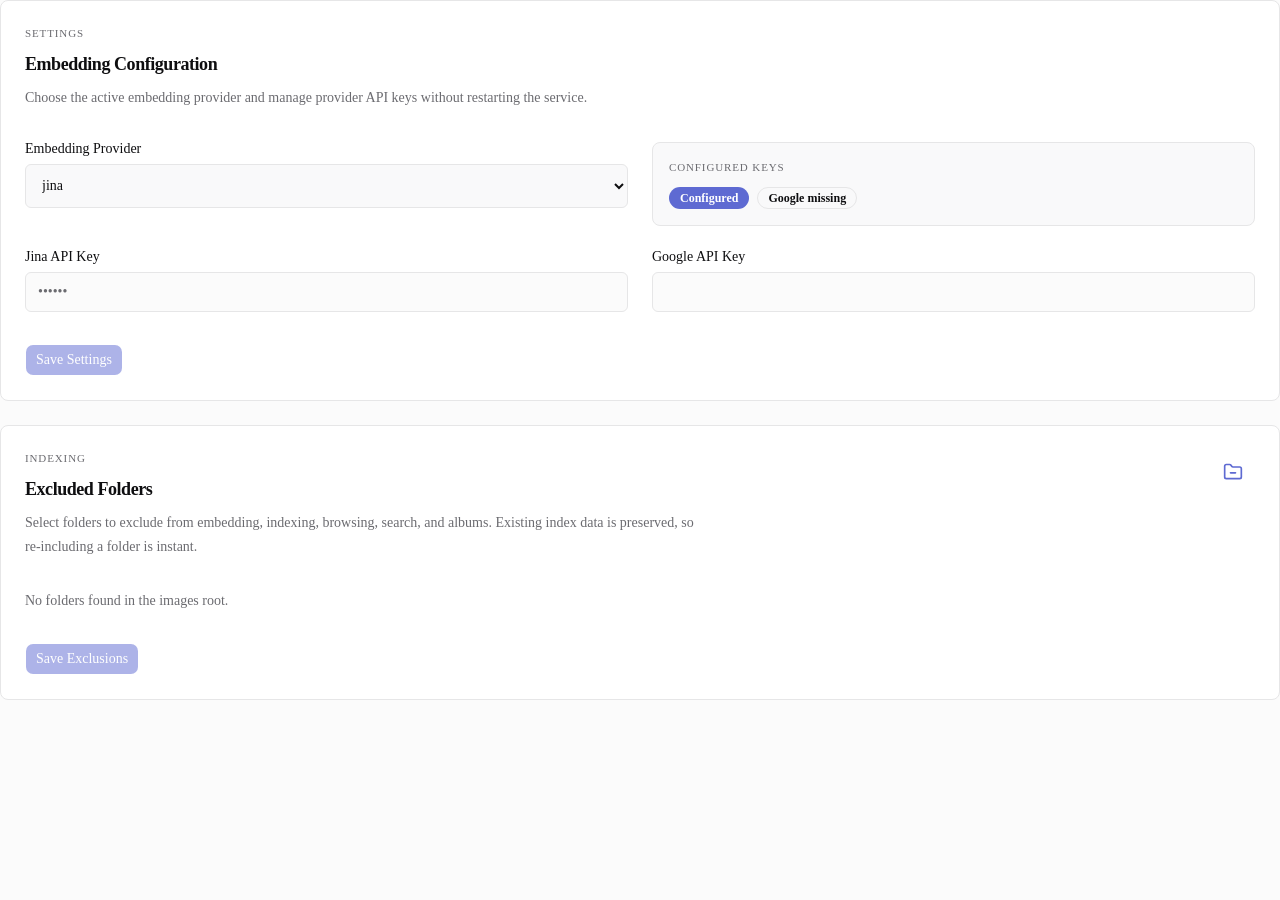
Scenario: SettingsPage › shows retry button after reload failure
Type "new-secret" into the password field labelled "Jina API Key".
click(326, 292); type("new-secret")  # box [25, 272, 628, 312]
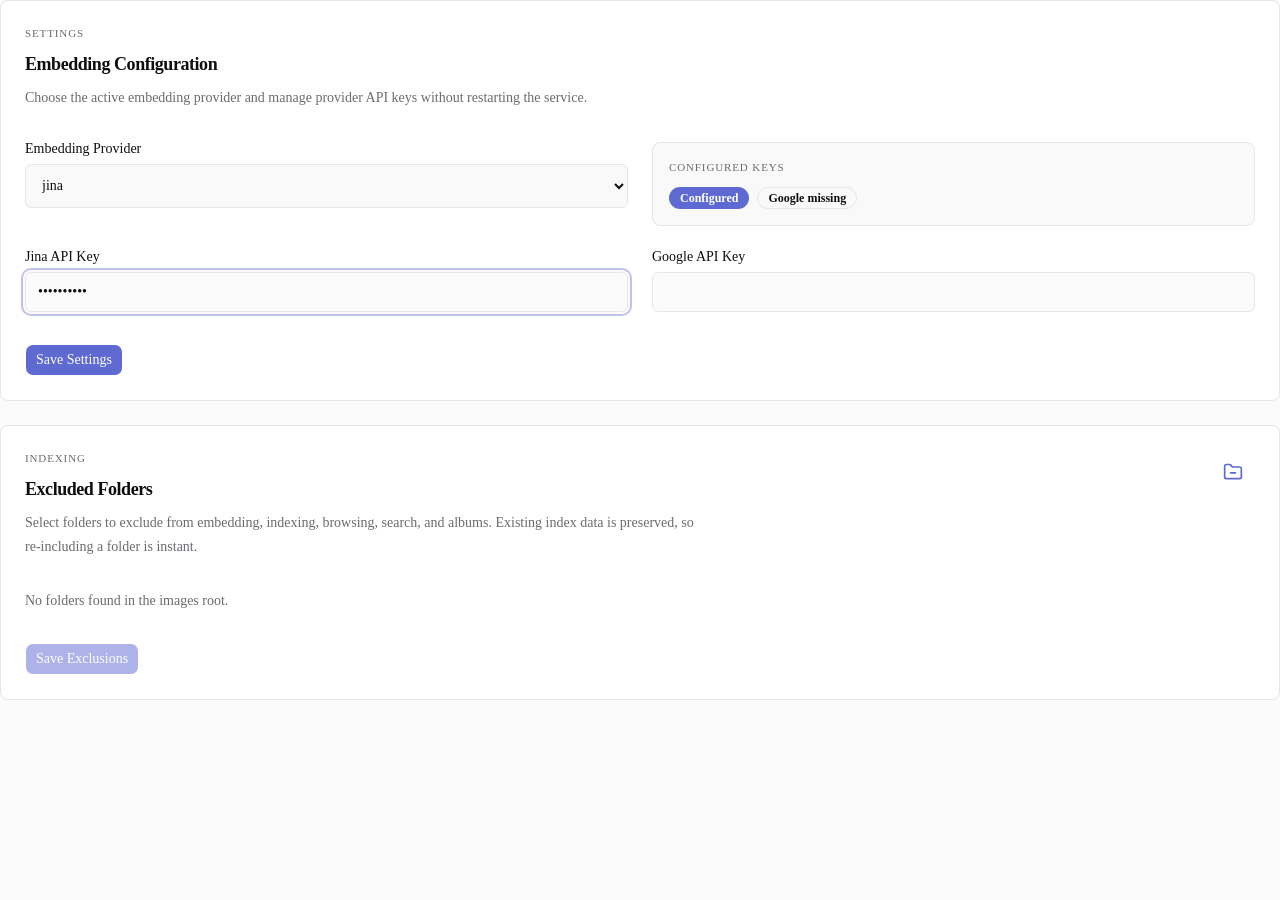
Click the button "Save Settings".
click(74, 360)  # box [25, 344, 123, 376]
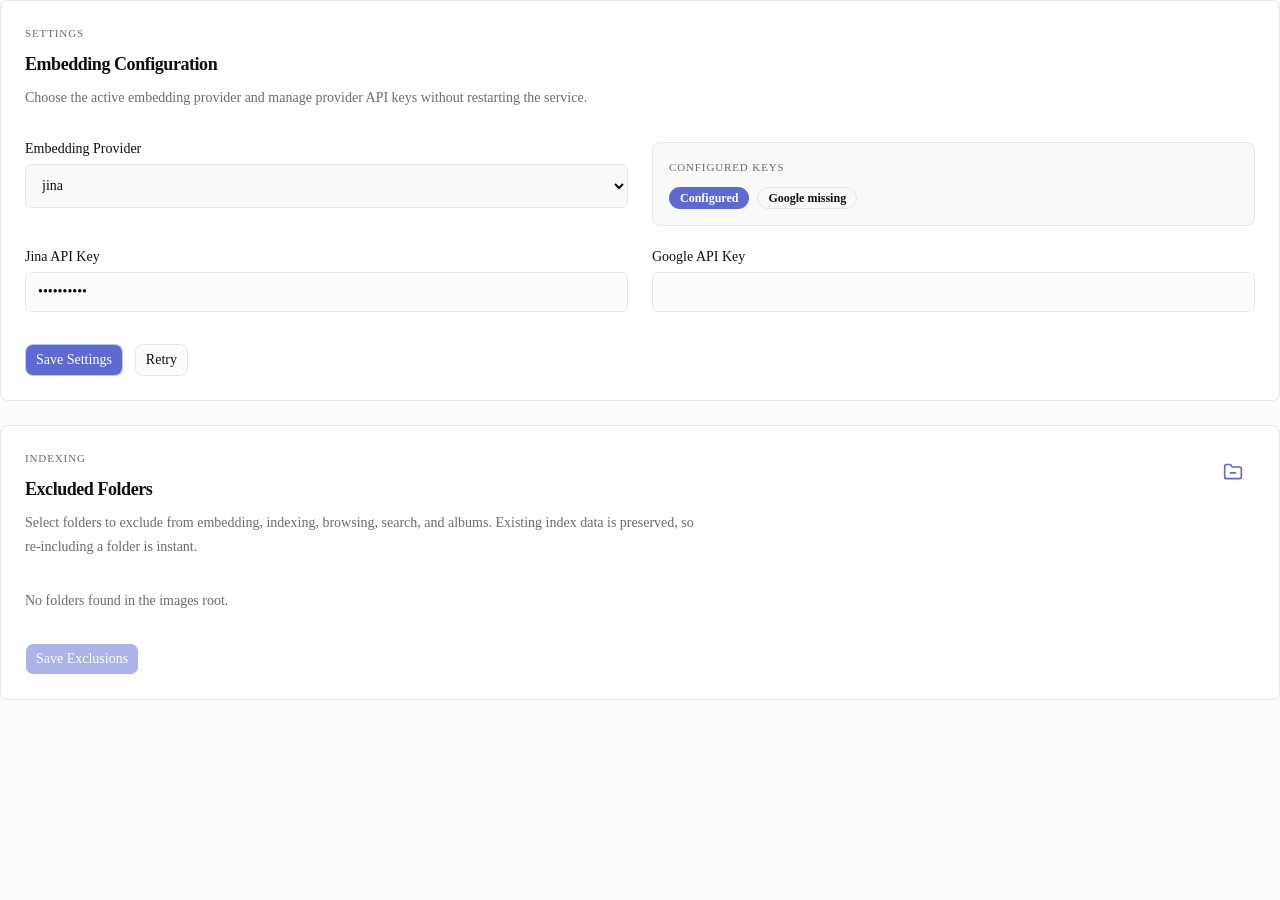
expect the button "Retry" is shown: met, box [135, 344, 188, 376]
